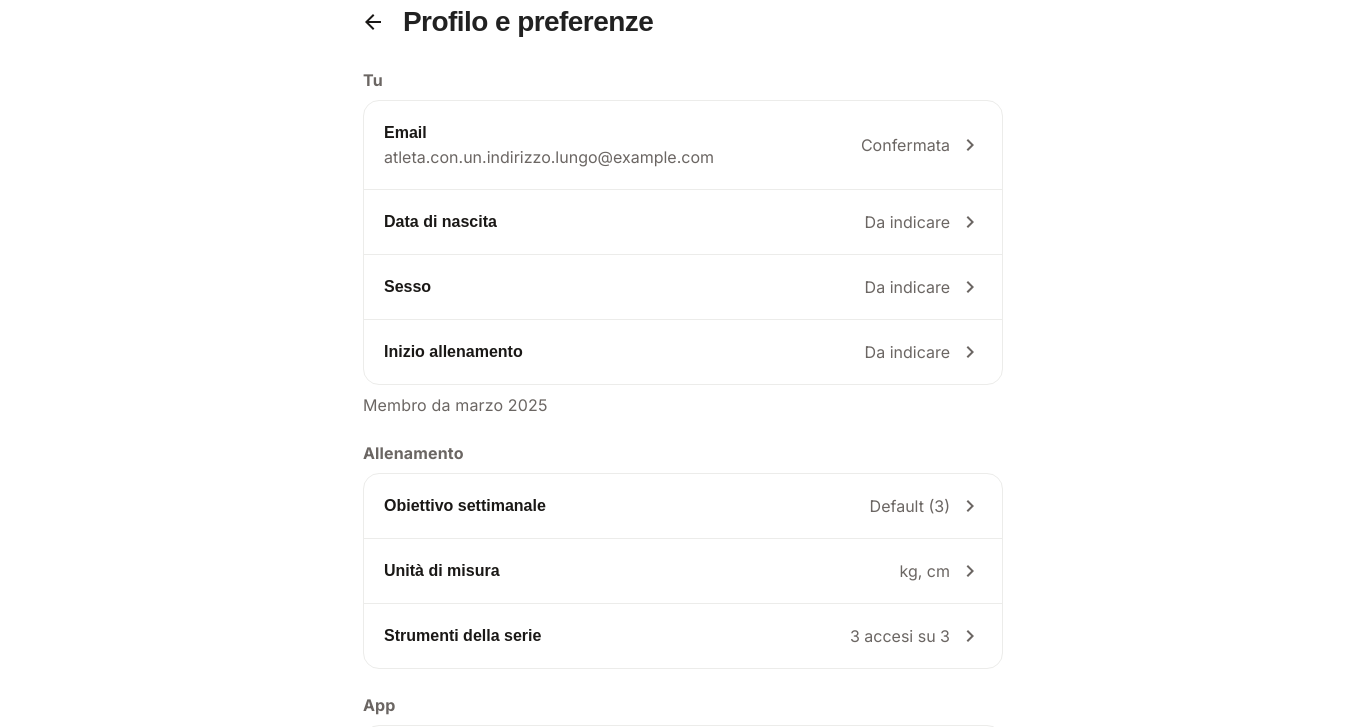
it: campi data su telefono › il campo di «Inizio allenamento» ha un nome che contiene l'etichetta
Expected: the text "Membro da marzo 2025" is shown, [363, 395, 548, 415]
Click the button "Inizio allenamento Da indicare": (453, 352) [364, 320, 1002, 384]
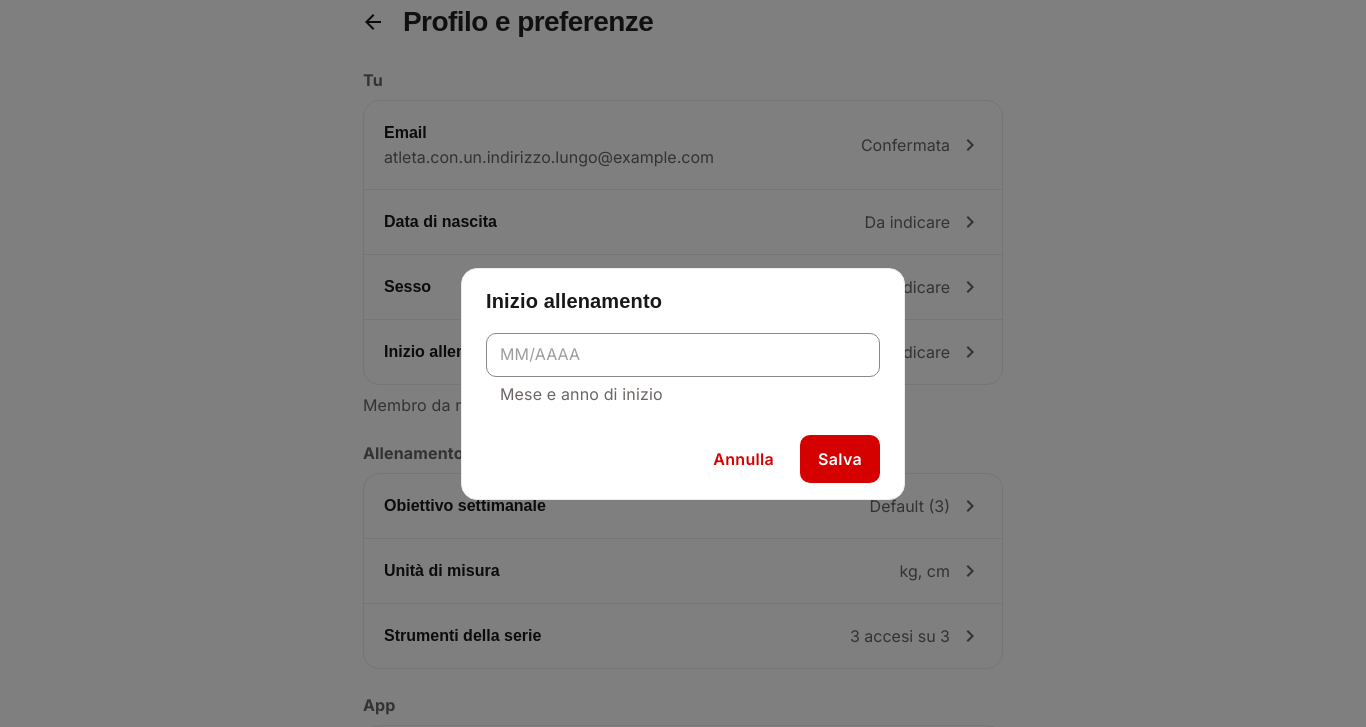
Expected: the field named "Inizio allenamento" is shown, [486, 333, 866, 377]
